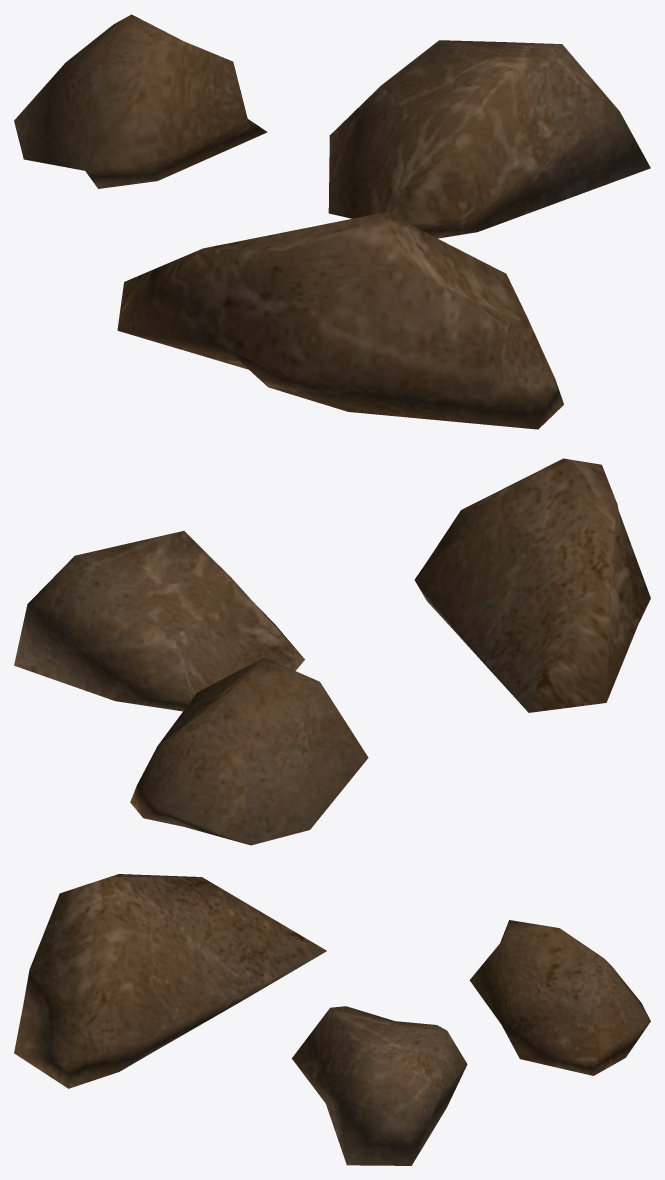
The model's file is scattered rocks.fbx.
The picture shows the model from 3 angles, top to bottom: view 1: azimuth 30°, elevation 25°; view 2: azimuth 150°, elevation 25°; view 3: azimuth 270°, elevation 25°; orthographic projection. The views are drawn at different scales.
Parts seen in each view (by area): view 1: pCube4; view 2: pCube4; view 3: pCube4.
Part boxes in pixels (x1,y1,x2,y2): pCube4: (14,14,650,429); pCube4: (14,458,650,845); pCube4: (14,874,650,1165).
Bounding box in the file's own units: 2.04 × 0.7011 × 2.6.
